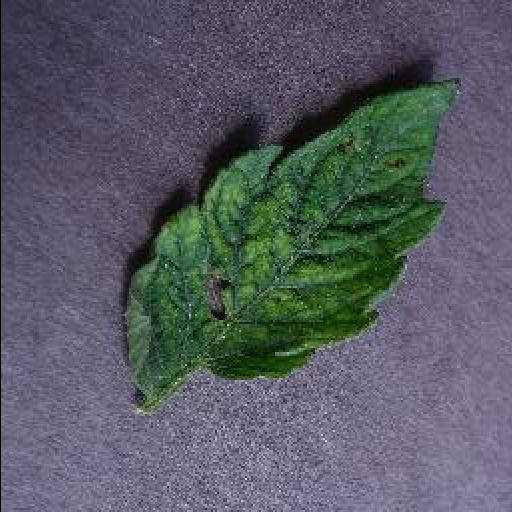disease_tomato: (121, 78, 471, 400)
